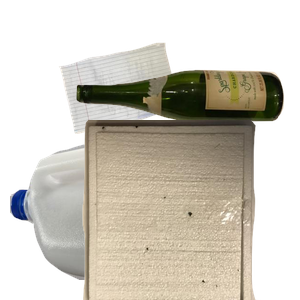glass: (74, 67, 300, 181)
paper: (56, 40, 229, 166)
plastic: (10, 120, 250, 300)
trash: (80, 120, 300, 300)
